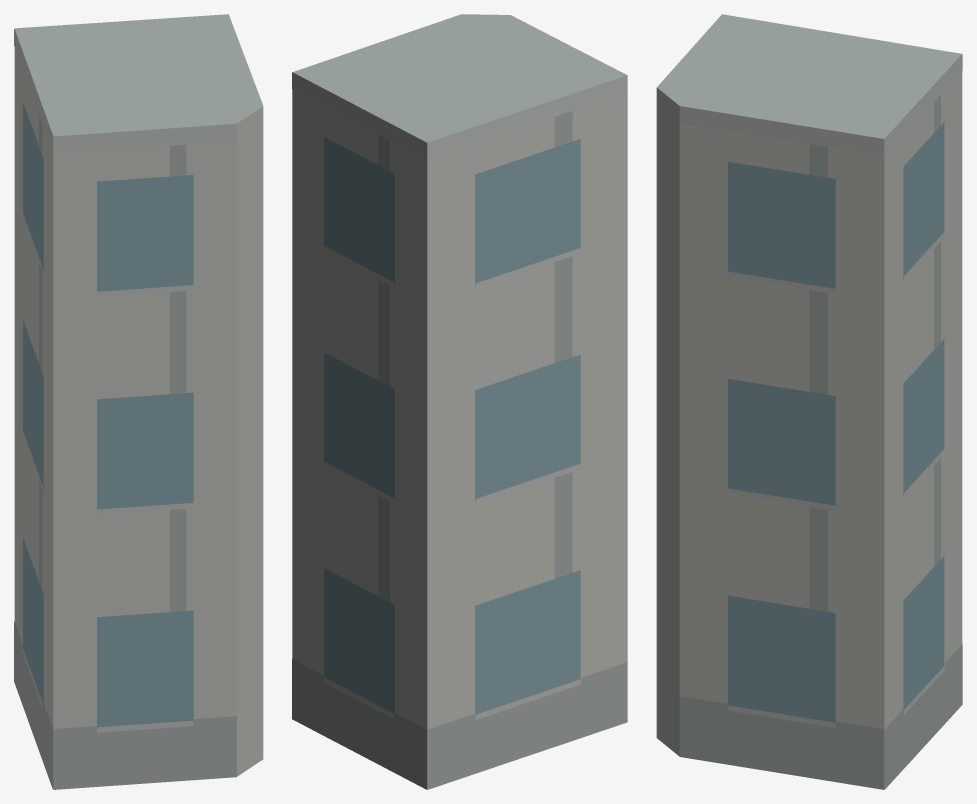
Rendered from survey-upis-32680655.glb.
The picture shows the model from 3 angles, left to right: view 1: azimuth 30°, elevation 25°; view 2: azimuth 150°, elevation 25°; view 3: azimuth 270°, elevation 25°; orthographic projection.
Visible parts, largest first — view 1: survey-upis-32680655.tmp; view 2: survey-upis-32680655.tmp; view 3: survey-upis-32680655.tmp.
Part boxes in pixels (x1,y1,x2,y2): survey-upis-32680655.tmp: (14,14,263,789); survey-upis-32680655.tmp: (292,14,627,789); survey-upis-32680655.tmp: (656,14,962,789).
Size of the model in its own units: 3.78 by 9.15 by 3.9.
